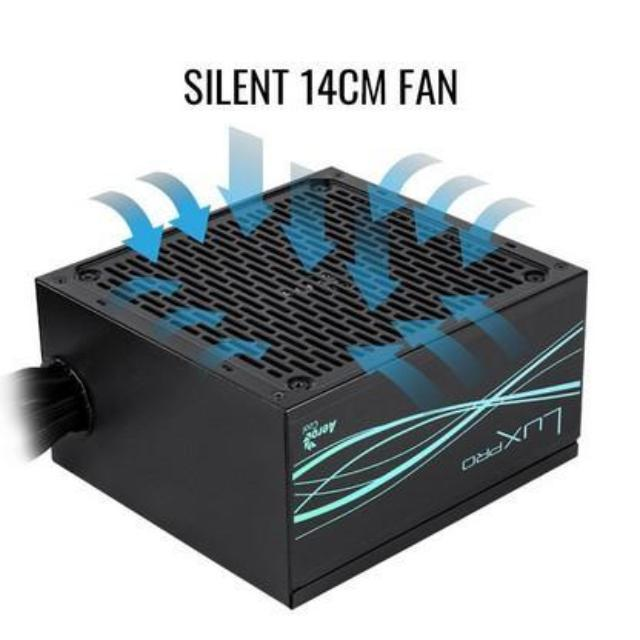PSU: (30, 110, 585, 619)
